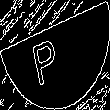P_N: (38, 25, 72, 85)
